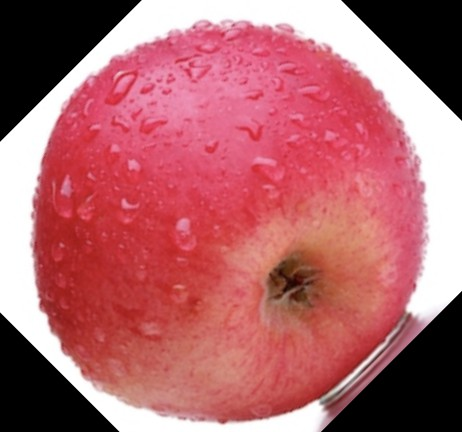fresh_apple: (28, 21, 425, 425)
